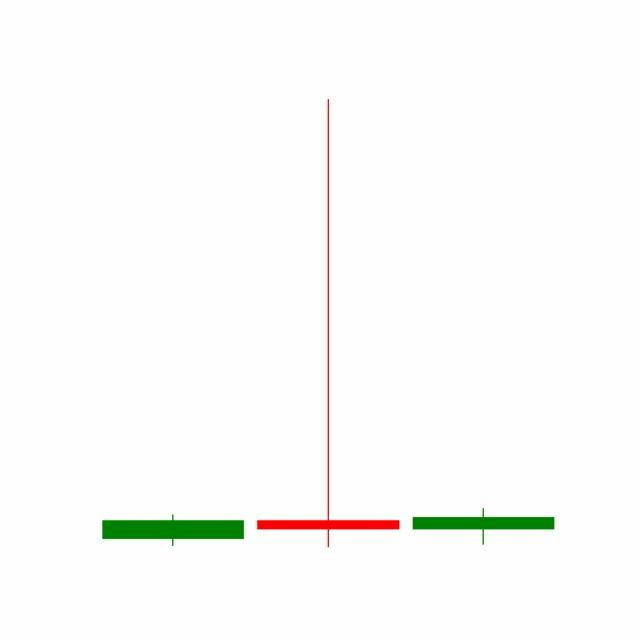Hammer: (406, 508, 562, 547)
